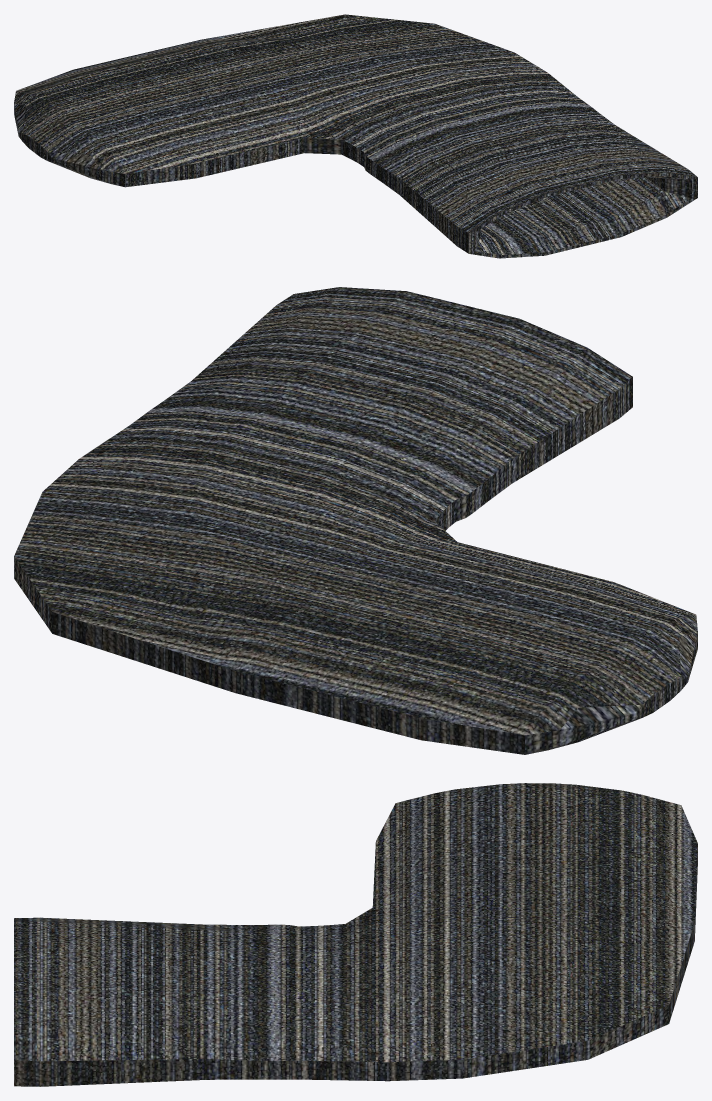
Rendered from calcetin2.fbx.
The picture shows the model from 3 angles, top to bottom: view 1: azimuth 30°, elevation 25°; view 2: azimuth 150°, elevation 25°; view 3: azimuth 270°, elevation 25°; orthographic projection. The views are drawn at different scales.
Visible parts, largest first — view 1: sock:Mesh; view 2: sock:Mesh; view 3: sock:Mesh.
Boxes of the visible parts, x1,y1,x2,y2 form: sock:Mesh: [14, 14, 697, 258]; sock:Mesh: [14, 287, 697, 754]; sock:Mesh: [14, 783, 697, 1086].
Bounding box in the file's own units: 6.42 × 0.8268 × 6.54.
1 material, 1 textured.
